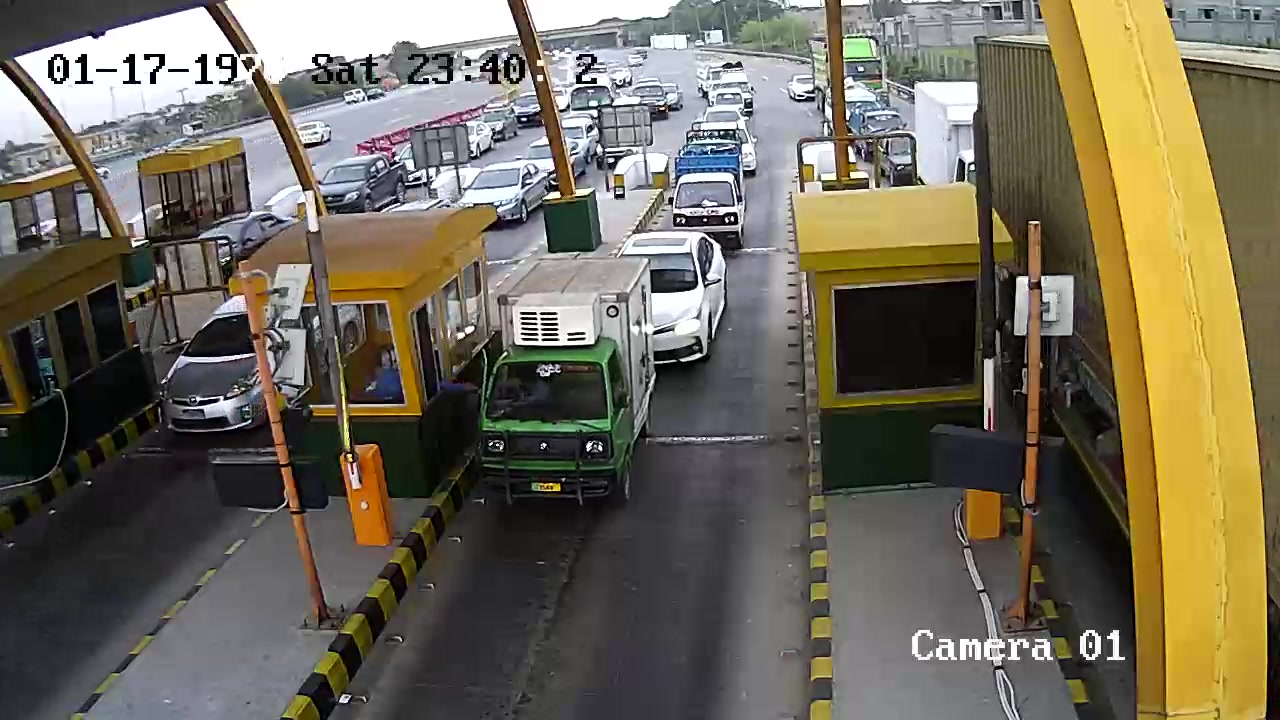F1: (465, 246, 669, 528)
